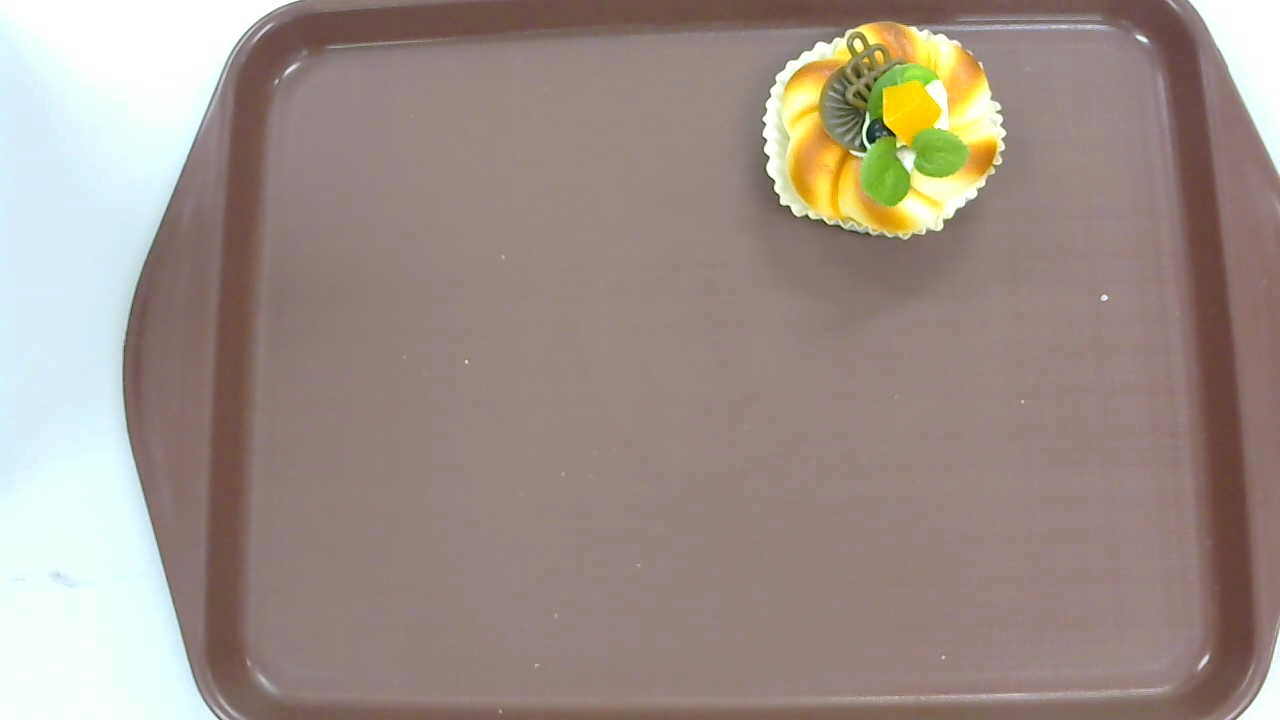fruit tart: (760, 22, 1004, 241)
